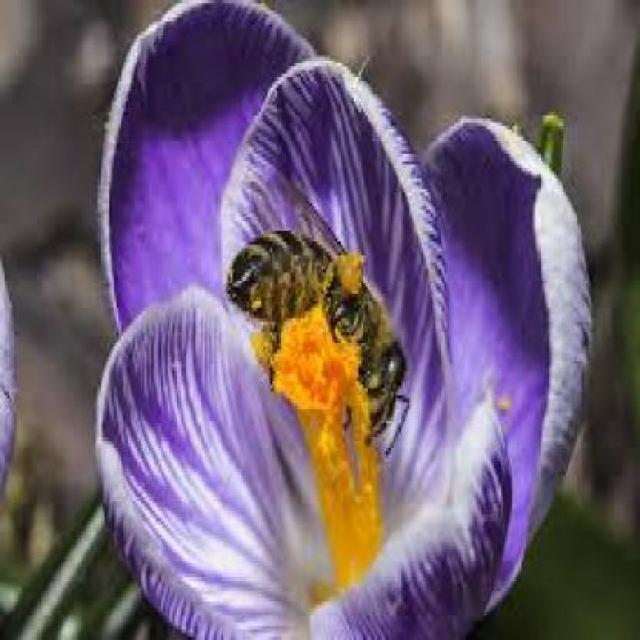Flower: (95, 0, 594, 640)
